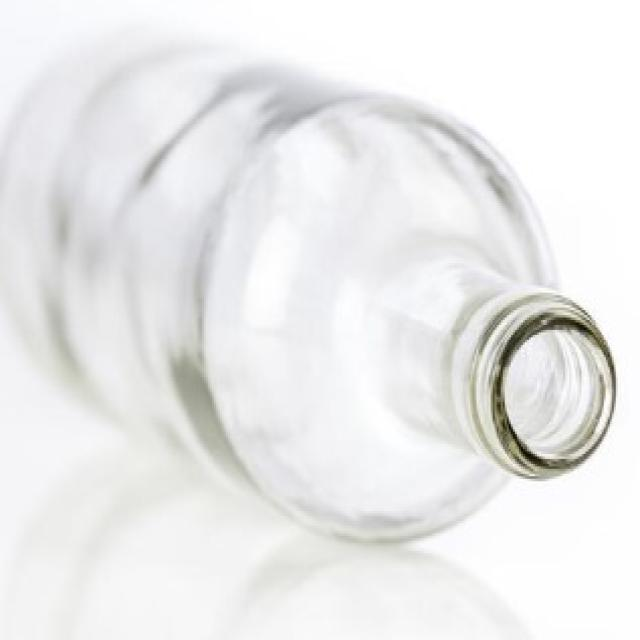electronic: (0, 43, 621, 558)
